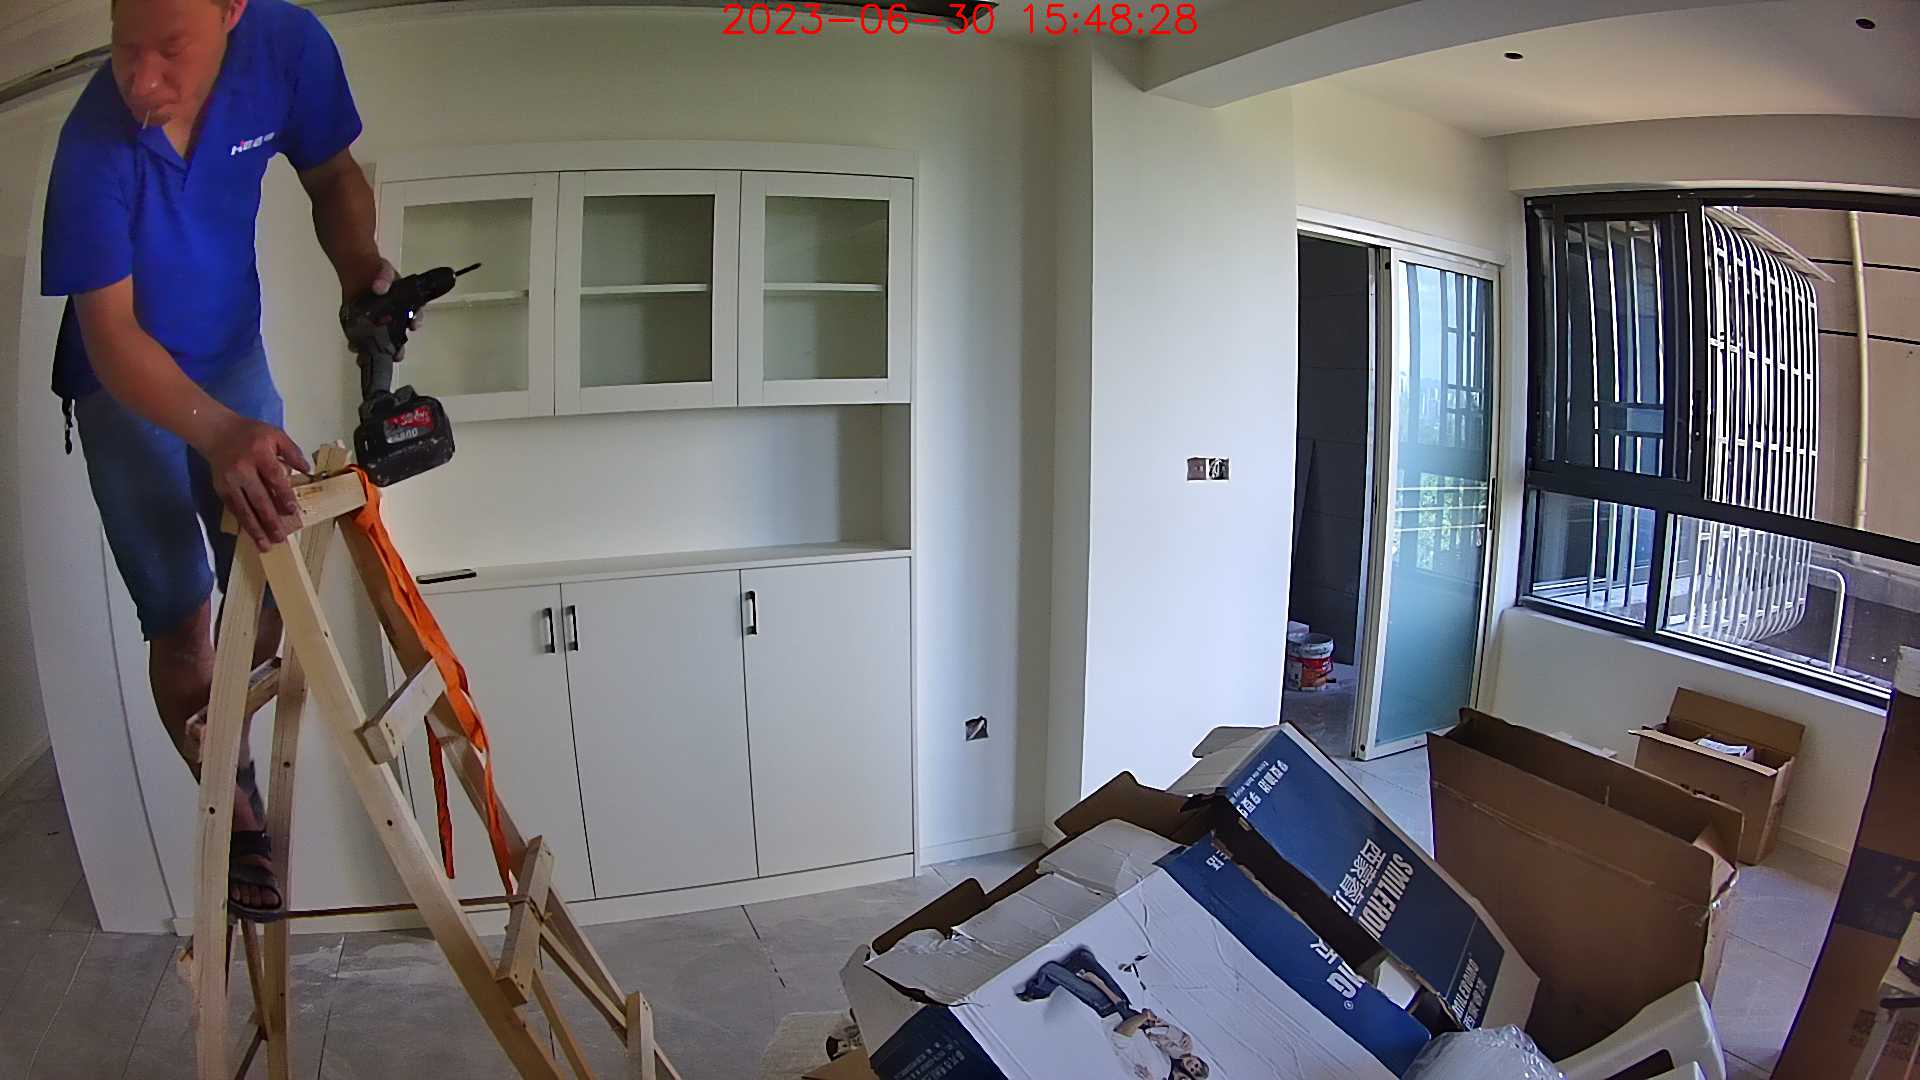people: (40, 1, 432, 926)
window: (1534, 205, 1920, 695)
